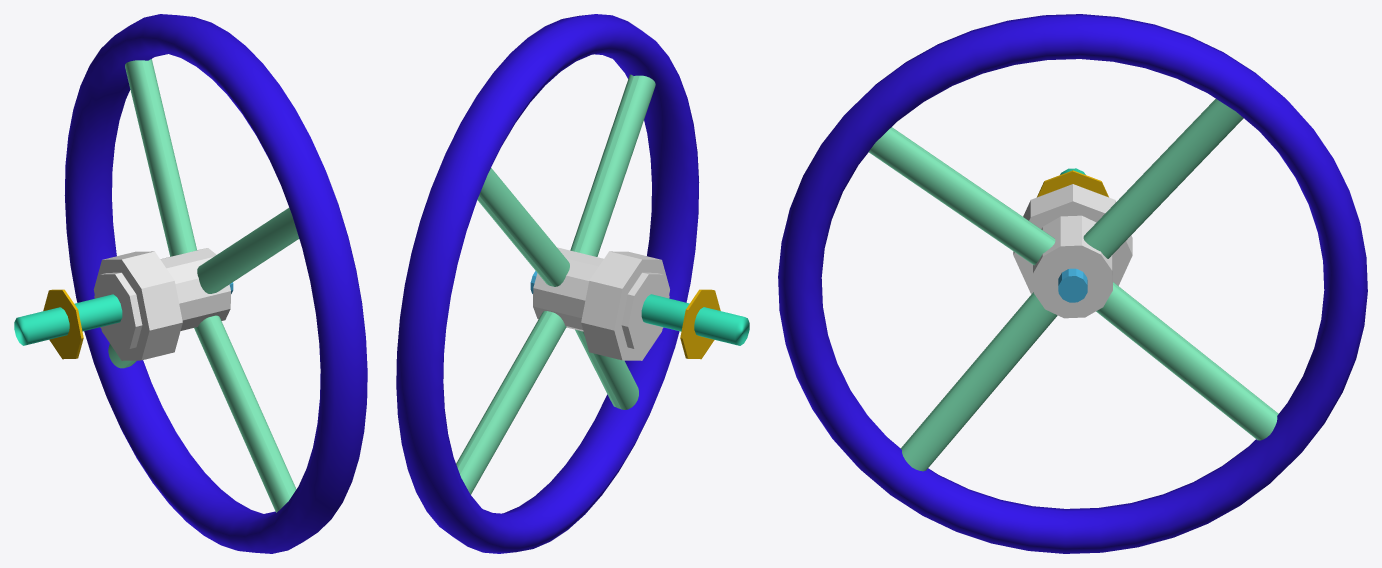
Rendered from valve.fbx.
3 views of the same model, side by side, from view 1: azimuth 30°, elevation 25°; view 2: azimuth 150°, elevation 25°; view 3: azimuth 270°, elevation 25° (orthographic). The views are drawn at different scales.
Visible parts, largest first — view 1: BezierCircle, Plane, Cylinder.009, Cylinder, Cylinder.004, Cylinder.011, Cylinder.017; view 2: BezierCircle, Plane, Cylinder.009, Cylinder, Cylinder.004, Cylinder.011, Cylinder.017; view 3: BezierCircle, Plane, Cylinder, Cylinder.009, Cylinder.017.
Part boxes in pixels (x1,y1,x2,y2): BezierCircle: (64,14,367,553); Plane: (108,59,299,512); Cylinder.009: (93,251,182,360); Cylinder: (160,248,233,330); Cylinder.004: (14,294,122,345); Cylinder.011: (94,272,142,349); Cylinder.017: (43,289,83,359); BezierCircle: (396,14,699,553); Plane: (456,74,655,494); Cylinder.009: (581,251,669,360); Cylinder: (530,247,603,331); Cylinder.004: (641,294,749,345); Cylinder.011: (621,272,669,349); Cylinder.017: (680,289,720,359); BezierCircle: (778,14,1367,553); Plane: (869,99,1278,471); Cylinder: (1033,215,1112,318); Cylinder.009: (1013,184,1132,293); Cylinder.017: (1037,170,1108,197).
Size of the model in its own units: 46.01 by 101 by 101.
